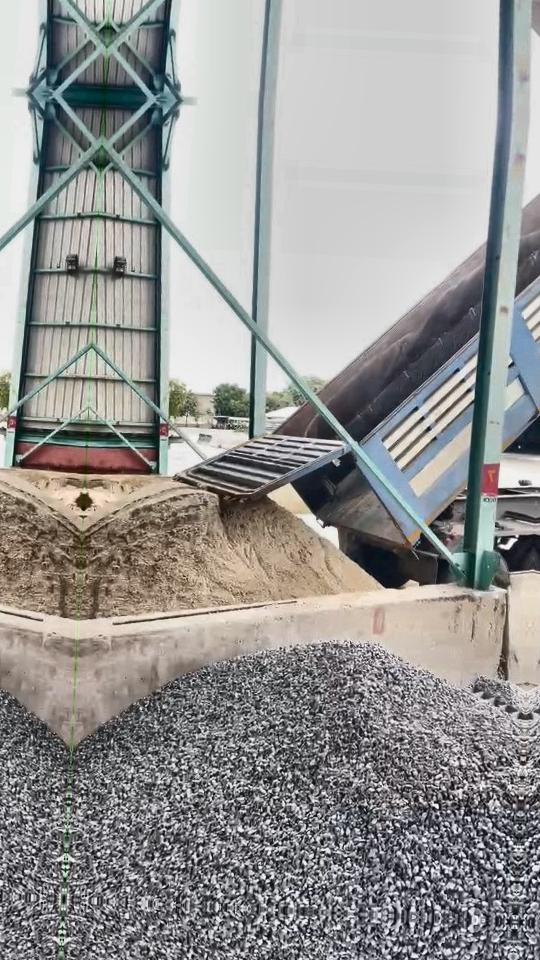gravel: (67, 642, 525, 920), (473, 676, 526, 719)
sand: (81, 480, 380, 617), (85, 474, 172, 512), (270, 484, 308, 514)
